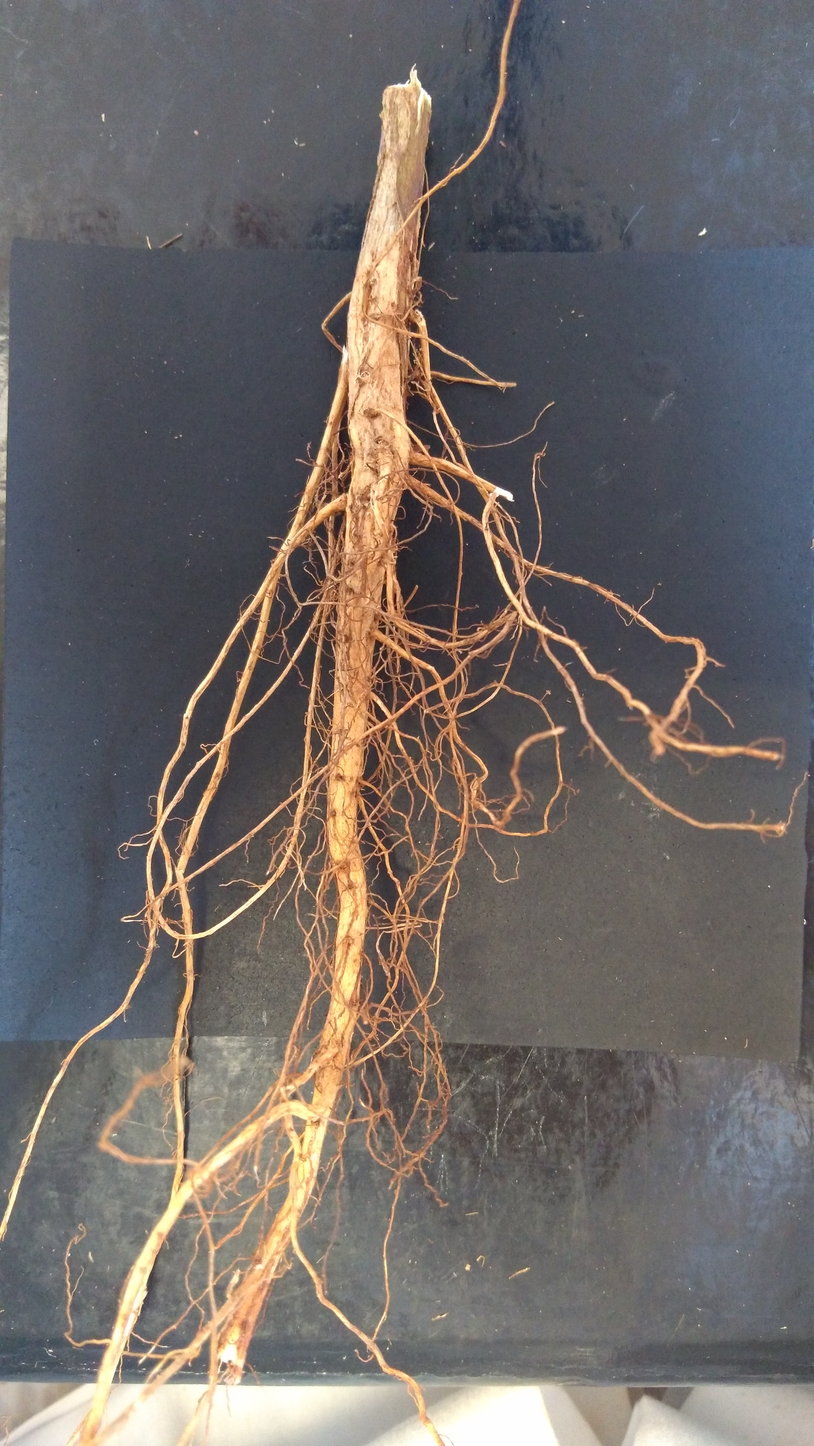nodule: (343, 567, 364, 595), (217, 1339, 238, 1365), (225, 1323, 243, 1345), (321, 575, 337, 598), (383, 548, 397, 573), (380, 534, 398, 553), (356, 997, 369, 1017), (412, 443, 431, 456), (373, 604, 383, 622), (354, 375, 367, 387), (391, 472, 401, 483), (419, 347, 423, 352)
